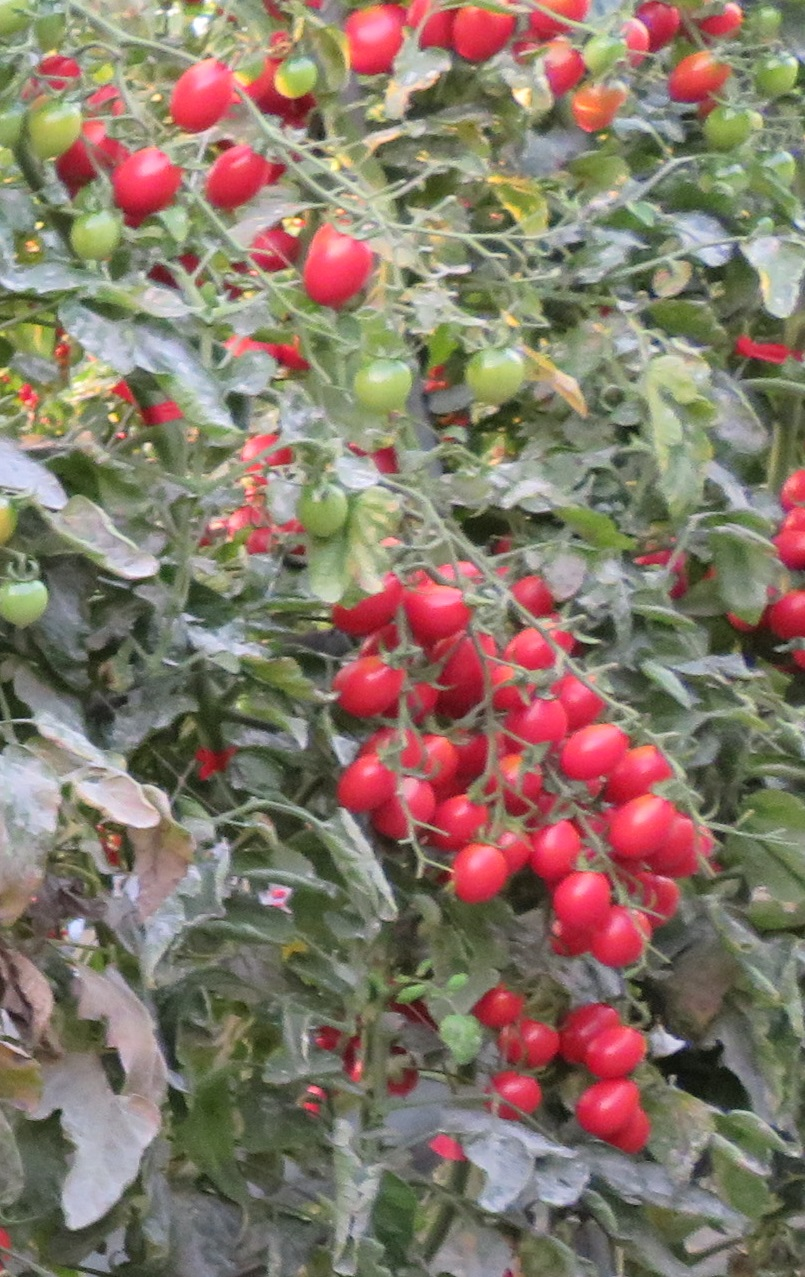green: (349, 351, 416, 418), (464, 344, 523, 410), (62, 213, 128, 267), (299, 471, 349, 531), (29, 108, 89, 156), (266, 50, 319, 104), (1, 571, 50, 629), (691, 113, 750, 156), (753, 55, 799, 101)
orange: (560, 88, 628, 140), (661, 55, 731, 96)
red: (391, 568, 470, 647), (294, 221, 371, 301), (195, 135, 273, 208), (173, 51, 233, 127), (332, 656, 407, 715), (119, 161, 191, 221), (553, 721, 635, 773), (570, 1084, 668, 1126), (345, 11, 415, 69), (608, 786, 674, 847), (377, 775, 437, 842), (504, 621, 577, 675), (448, 1, 508, 63), (428, 794, 489, 854), (599, 910, 660, 969), (327, 585, 392, 640), (582, 1023, 653, 1073), (452, 845, 510, 906), (560, 996, 616, 1058), (335, 752, 395, 809), (533, 813, 586, 873), (516, 689, 560, 759), (494, 1071, 549, 1123), (560, 863, 608, 918), (606, 1109, 653, 1159), (660, 815, 698, 873), (511, 573, 558, 618), (654, 1, 693, 55), (541, 35, 581, 86), (250, 227, 292, 273), (474, 990, 521, 1031), (496, 1036, 562, 1064), (765, 602, 805, 648), (566, 681, 602, 722), (778, 469, 805, 511), (779, 530, 805, 551)
